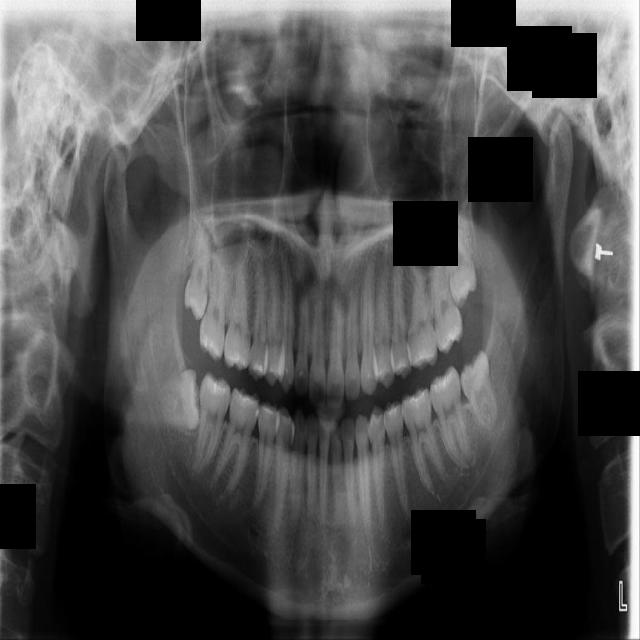3M ESPE Implant: (184, 226, 208, 319)
52: (424, 308, 476, 358), (420, 364, 471, 413), (185, 319, 234, 365), (404, 327, 442, 372), (395, 385, 437, 425), (195, 371, 238, 410), (224, 385, 268, 423), (217, 338, 254, 373), (252, 401, 285, 435), (240, 348, 272, 382), (373, 356, 398, 389), (390, 348, 413, 380), (383, 399, 405, 431), (278, 355, 295, 396), (366, 404, 386, 436), (293, 360, 310, 397)
73: (567, 562, 574, 576)
BioHorizons Implant: (426, 216, 466, 358)
BioLife Implant: (444, 212, 479, 310)
Biomet 3i Implant: (455, 347, 502, 433)
Blue Sky Bio Implant: (426, 365, 474, 470)
Caries: (198, 256, 227, 363)
Implant: (192, 369, 234, 475)
Keystone Dental Implant: (157, 369, 202, 433)
